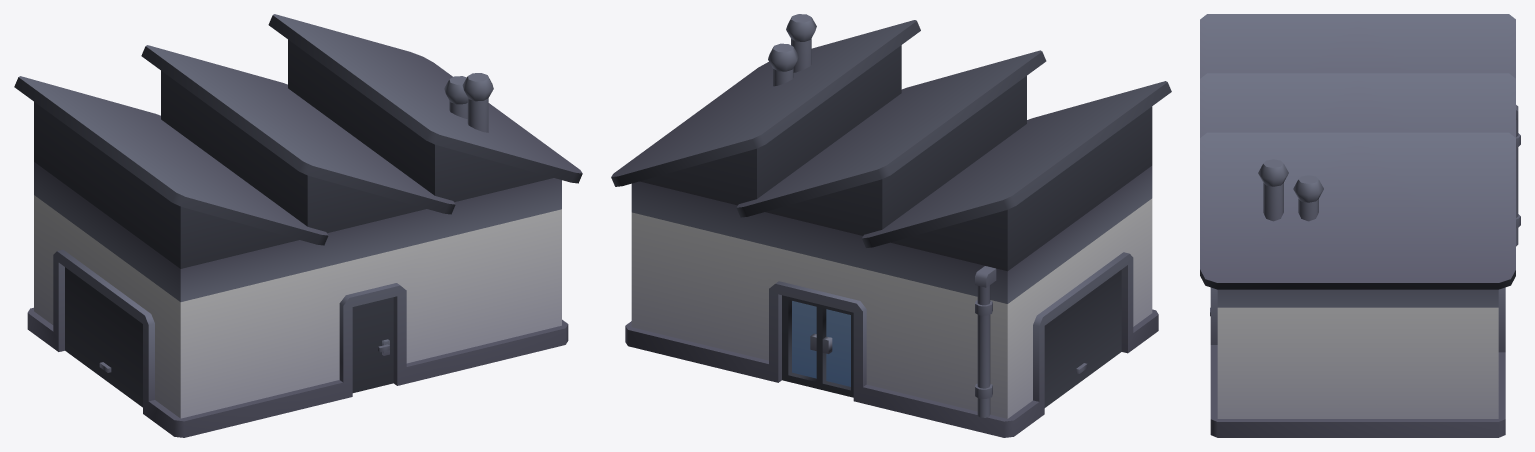
The model's file is industrial-building-k.glb.
3 renders of one model, left to right at view 1: azimuth 30°, elevation 25°; view 2: azimuth 150°, elevation 25°; view 3: azimuth 270°, elevation 25°, orthographic. The views are drawn at different scales.
Visible parts, largest first — view 1: building-k; view 2: building-k; view 3: building-k.
Boxes of the visible parts, bbox=[...] form: building-k: bbox=[14, 14, 582, 437]; building-k: bbox=[611, 14, 1171, 437]; building-k: bbox=[1200, 14, 1520, 437].
Size of the model in its own units: 1.3 by 0.7727 by 0.9136.
